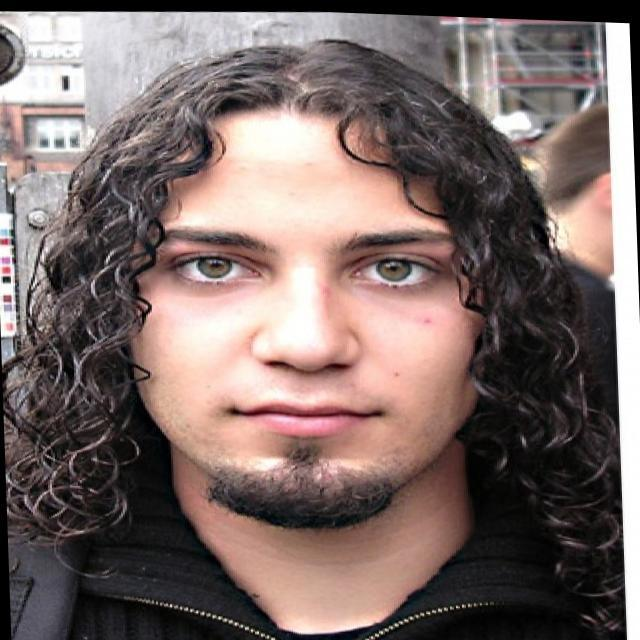Nonhelmet: (95, 42, 528, 538)
